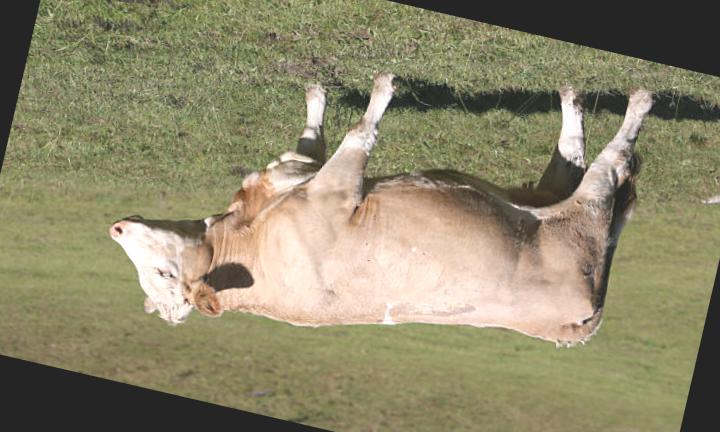Charolais: (110, 75, 650, 346)
